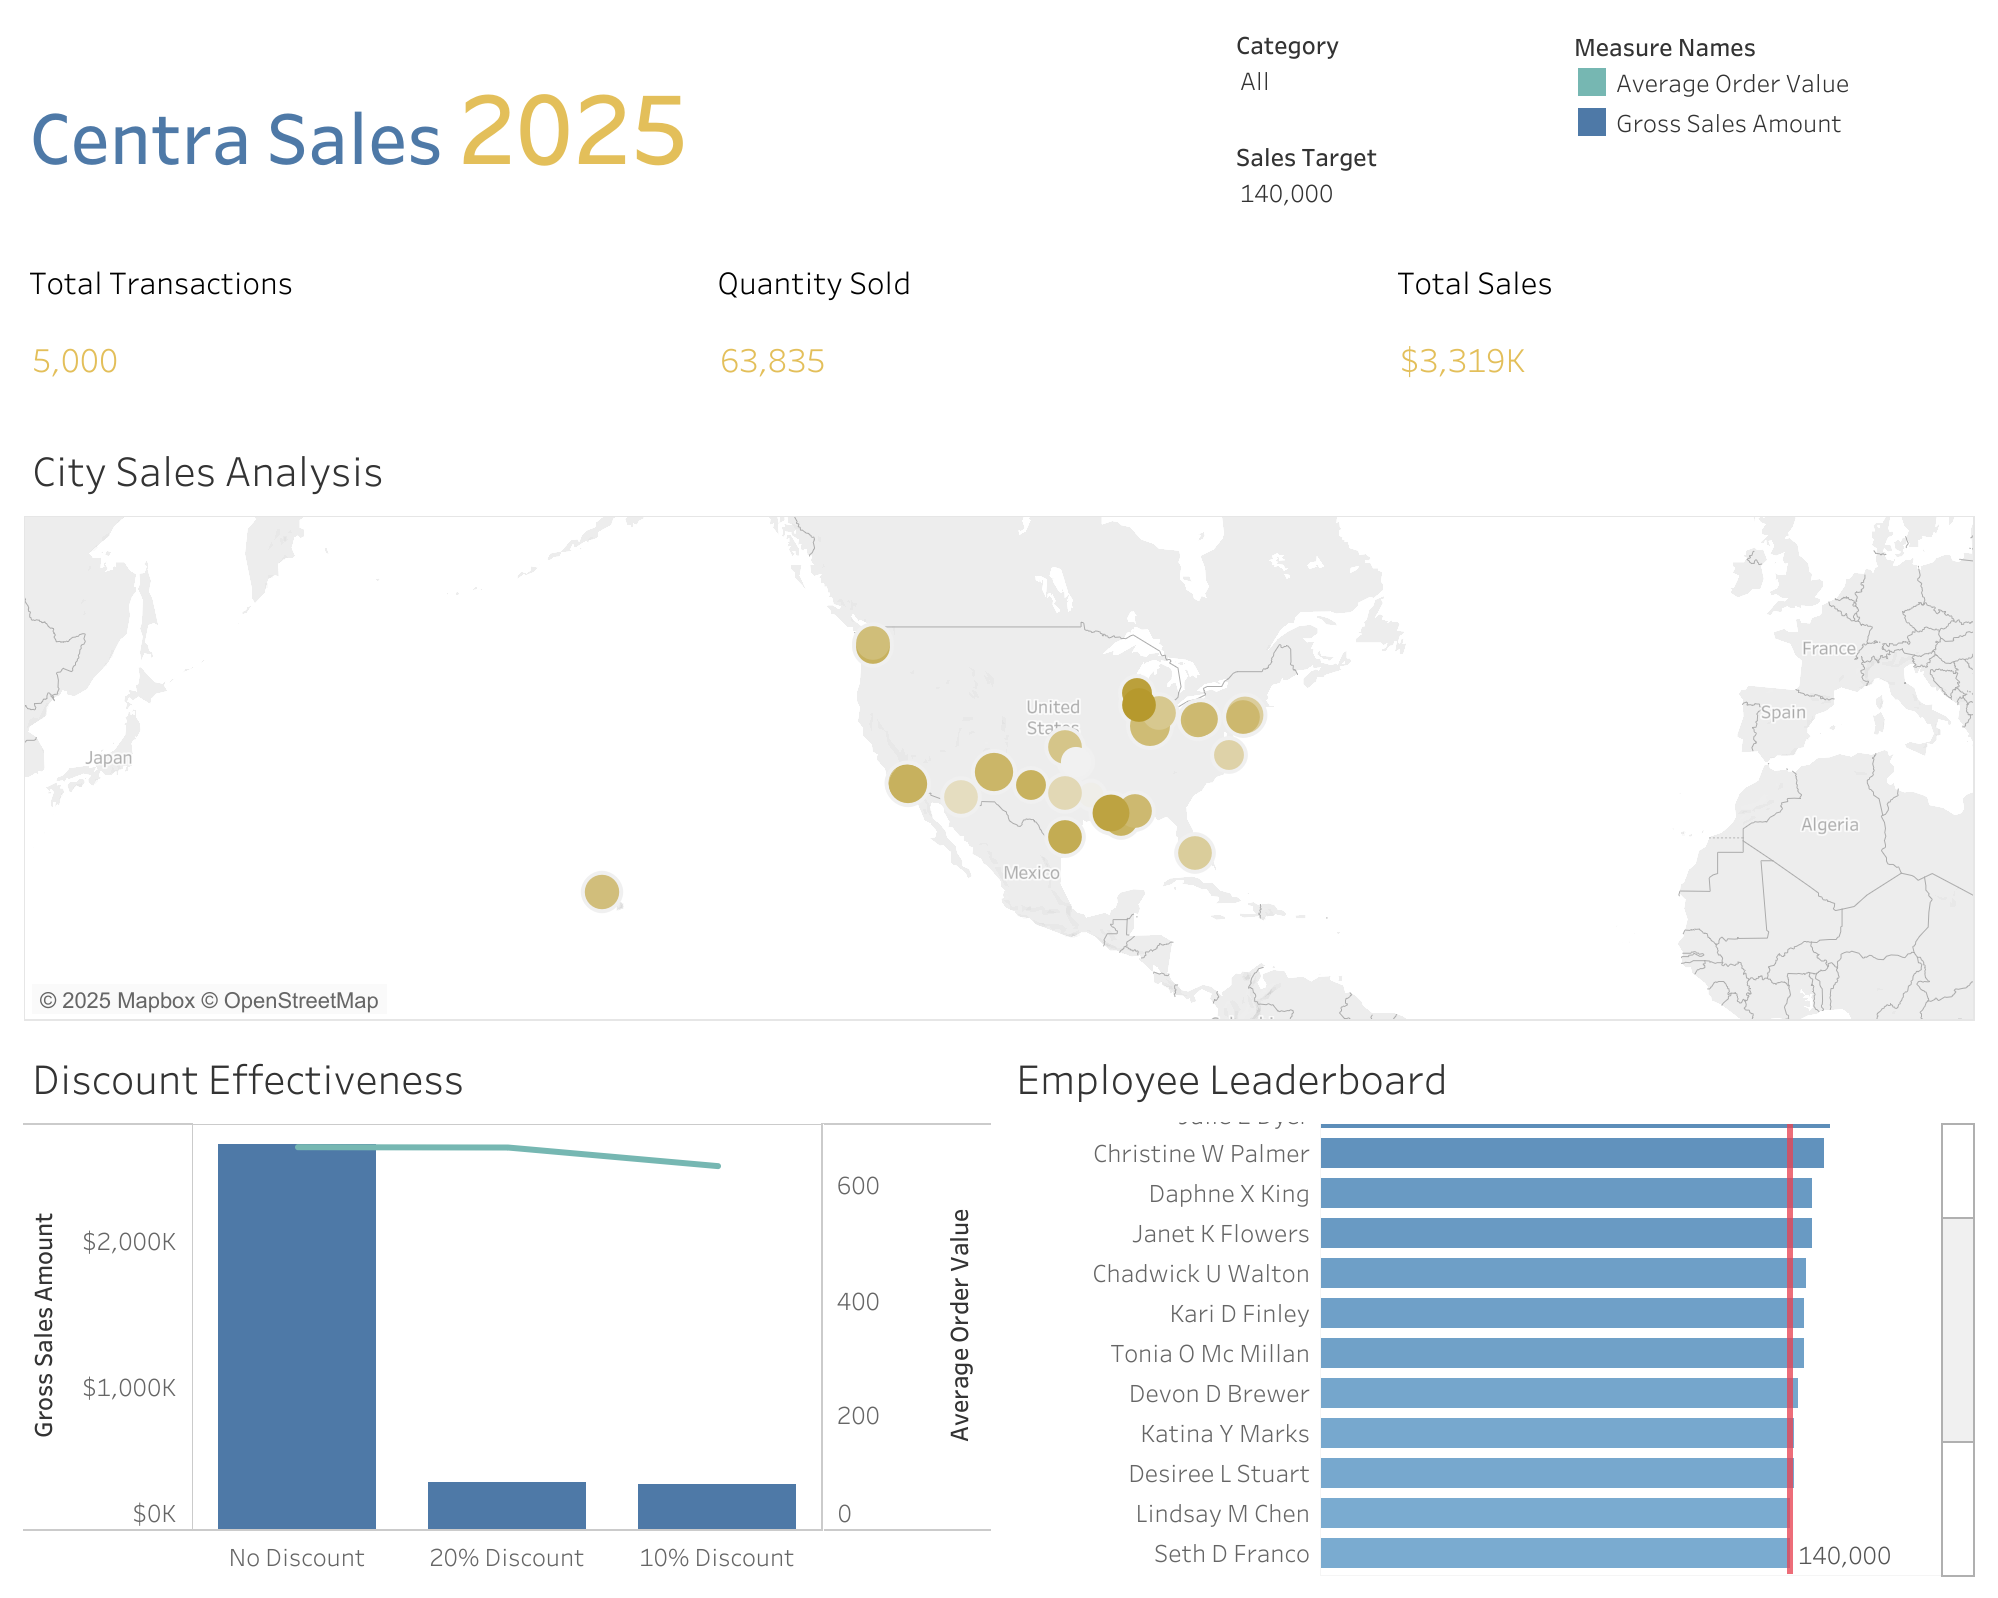

Layout of this report page (visuals, bound fields, positions):
{"tool":"tableau","page":{"name":"Dashboard 1","canvas":[1000,800],"ordinal":0},"visuals":[{"type":"text","box":[8,8,606,109]},{"type":"filter","title":"Discount Effectiveness","param":"[federated.11wy39x0bcat6f18tzm210ubiqda].[none:CategoryName:nk]","box":[614,8,168,55.5]},{"type":"legend","title":"Discount Effectiveness","param":"[federated.11wy39x0bcat6f18tzm210ubiqda].[:Measure Names]","box":[782,8,210,79]},{"type":"parameter","param":"[Parameters].[Parameter 1]","box":[614,63.5,168,53.5]},{"type":"text","box":[8,117,344,47]},{"type":"text","box":[352,117,340.5,47]},{"type":"text","box":[692.5,117,299.5,47]},{"type":"worksheet","title":"KPI - Total Transactions","mark":"Automatic","box":[8,164,344,47]},{"type":"worksheet","title":"KPI - Quantity Sold","mark":"Automatic","box":[352,164,340.5,47]},{"type":"worksheet","title":"KPI Total Sales","mark":"Automatic","box":[692.5,164,299.5,47]},{"type":"worksheet","title":" City Sales Map","mark":"Circle","box":[8,211,984,304.4]},{"type":"worksheet","title":"Discount Effectiveness","mark":"Bar","rows":["GrossSalesAmount","Calculation_5451607388186103811"],"cols":["Calculation_5451607388185653250"],"box":[8,515.4,492,276.6]},{"type":"worksheet","title":"Employee Leaderboard","mark":"Automatic","rows":["EmployeeFullName"],"cols":["TotalPrice"],"box":[500,515.4,492,276.6]}]}

Visuals, with their boxes in screenshot pixels (x1, y1, x2, y2), scaled from the page's 1000x800 canvas onto the 1998x1598 screenshot:
text: <bbox>16, 16, 1227, 234</bbox>
"Discount Effectiveness" filter: <bbox>1227, 16, 1562, 127</bbox>
"Discount Effectiveness" legend: <bbox>1562, 16, 1982, 174</bbox>
parameter: <bbox>1227, 127, 1562, 234</bbox>
text: <bbox>16, 234, 703, 328</bbox>
text: <bbox>703, 234, 1384, 328</bbox>
text: <bbox>1384, 234, 1982, 328</bbox>
"KPI - Total Transactions" worksheet: <bbox>16, 328, 703, 421</bbox>
"KPI - Quantity Sold" worksheet: <bbox>703, 328, 1384, 421</bbox>
"KPI Total Sales" worksheet: <bbox>1384, 328, 1982, 421</bbox>
" City Sales Map" worksheet (Circle marks): <bbox>16, 421, 1982, 1030</bbox>
"Discount Effectiveness" worksheet (Bar marks): <bbox>16, 1030, 999, 1582</bbox>
"Employee Leaderboard" worksheet: <bbox>999, 1030, 1982, 1582</bbox>
